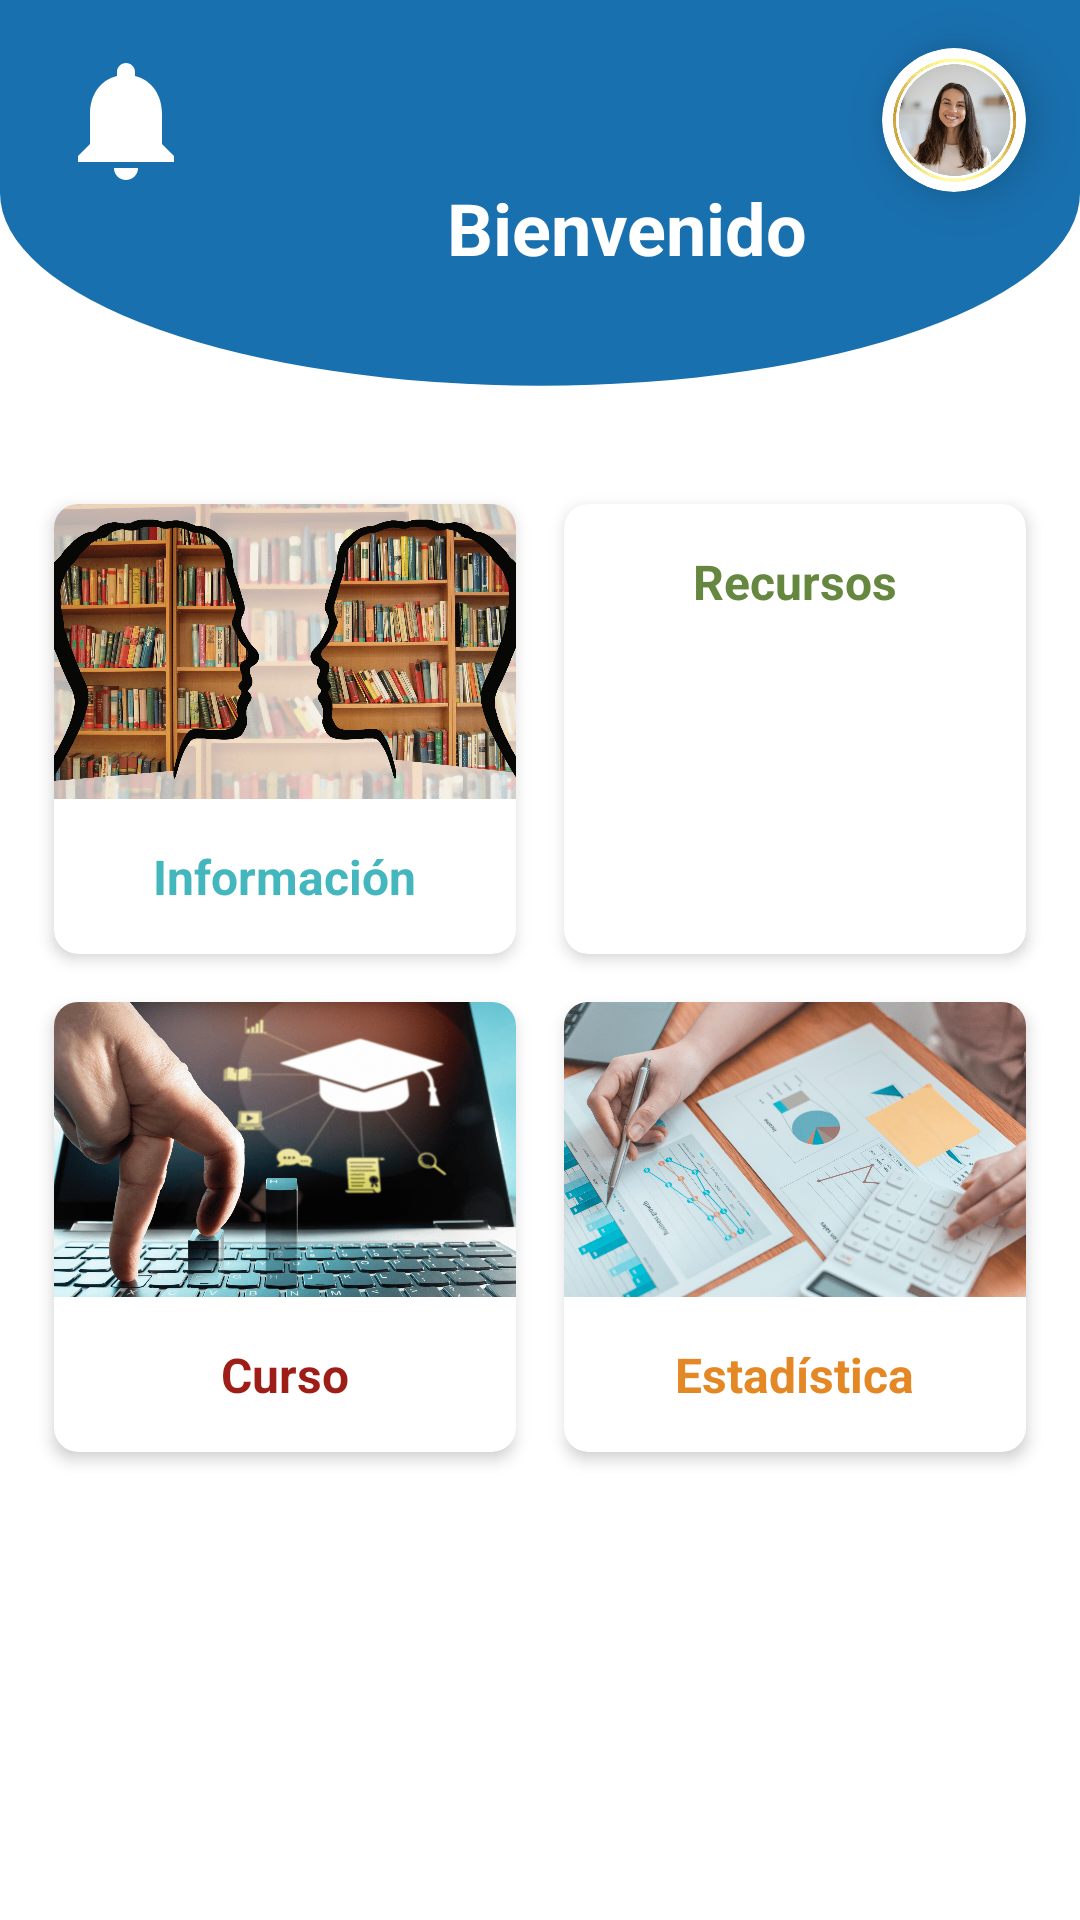

Where icons sit on this 1080w x 1920h app screen, as (x1, y1, x2, y2):
notification: (78, 63, 174, 180)
profile: (882, 48, 1026, 192)
